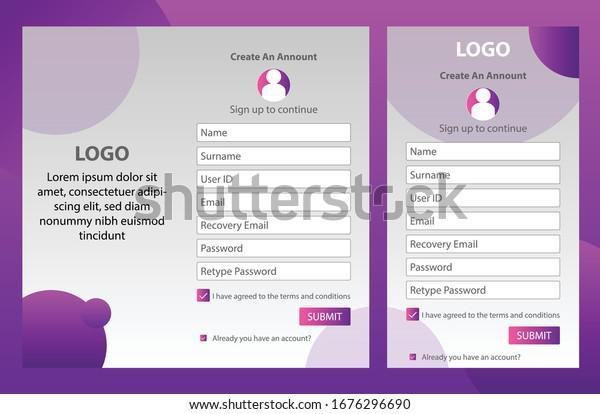button: (300, 309, 353, 328), (508, 327, 561, 345)
checkbox: (196, 289, 213, 304), (407, 307, 421, 323), (199, 333, 210, 346), (408, 352, 419, 363)
icon: (466, 85, 507, 125), (257, 63, 296, 105)
input: (407, 280, 563, 303), (197, 214, 351, 236), (407, 165, 561, 187), (407, 212, 560, 232), (197, 123, 354, 142), (197, 147, 353, 166), (407, 236, 562, 255), (406, 190, 561, 209), (198, 240, 352, 259), (197, 263, 351, 282), (407, 260, 562, 278), (198, 172, 352, 190), (408, 143, 561, 161), (200, 194, 350, 212)
label: (213, 291, 356, 304), (422, 308, 563, 320), (212, 335, 314, 347), (423, 354, 522, 365)
